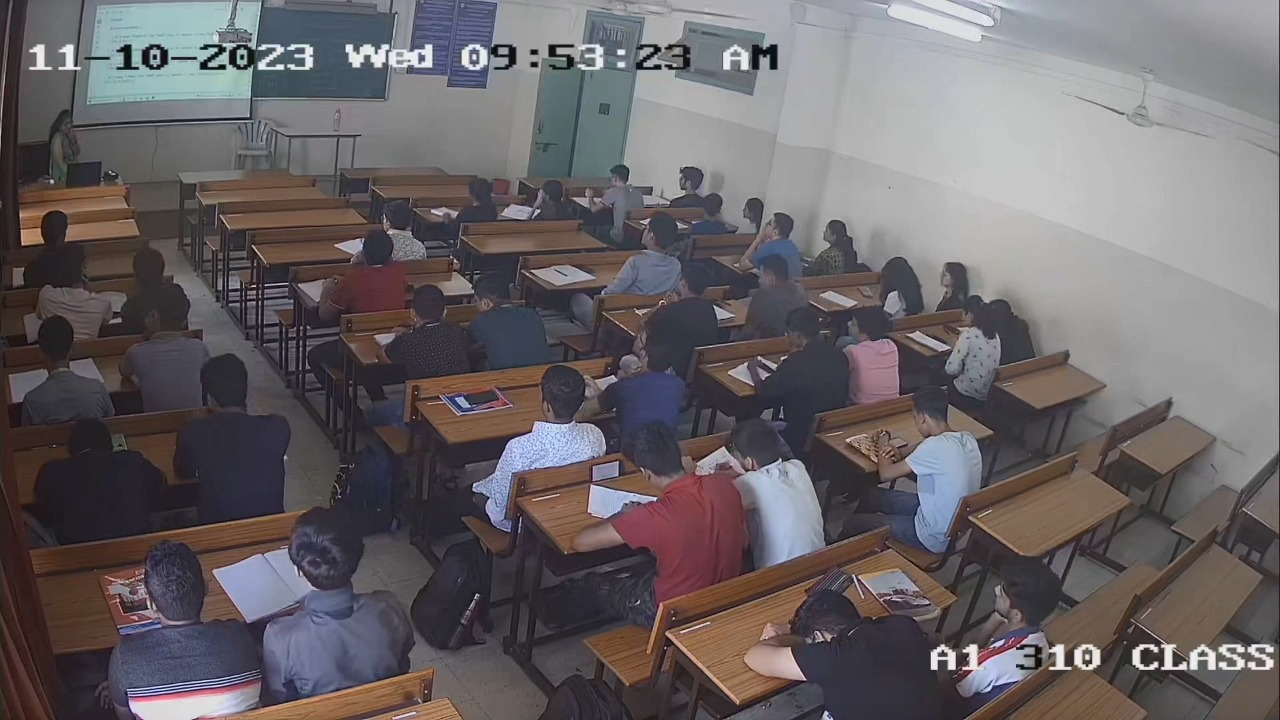cell-phones: (587, 456, 627, 483), (460, 386, 503, 408), (574, 261, 598, 275), (888, 435, 911, 449), (927, 331, 948, 346), (857, 284, 876, 299)
person: (582, 432, 746, 590), (873, 385, 985, 492), (493, 366, 608, 466), (608, 212, 682, 295), (946, 297, 1002, 373), (874, 256, 927, 317)
